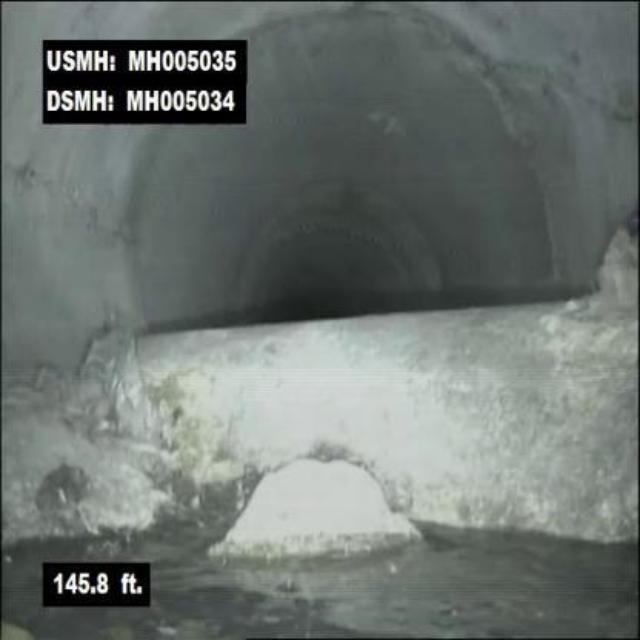Utility intrusion: (105, 292, 638, 551)
